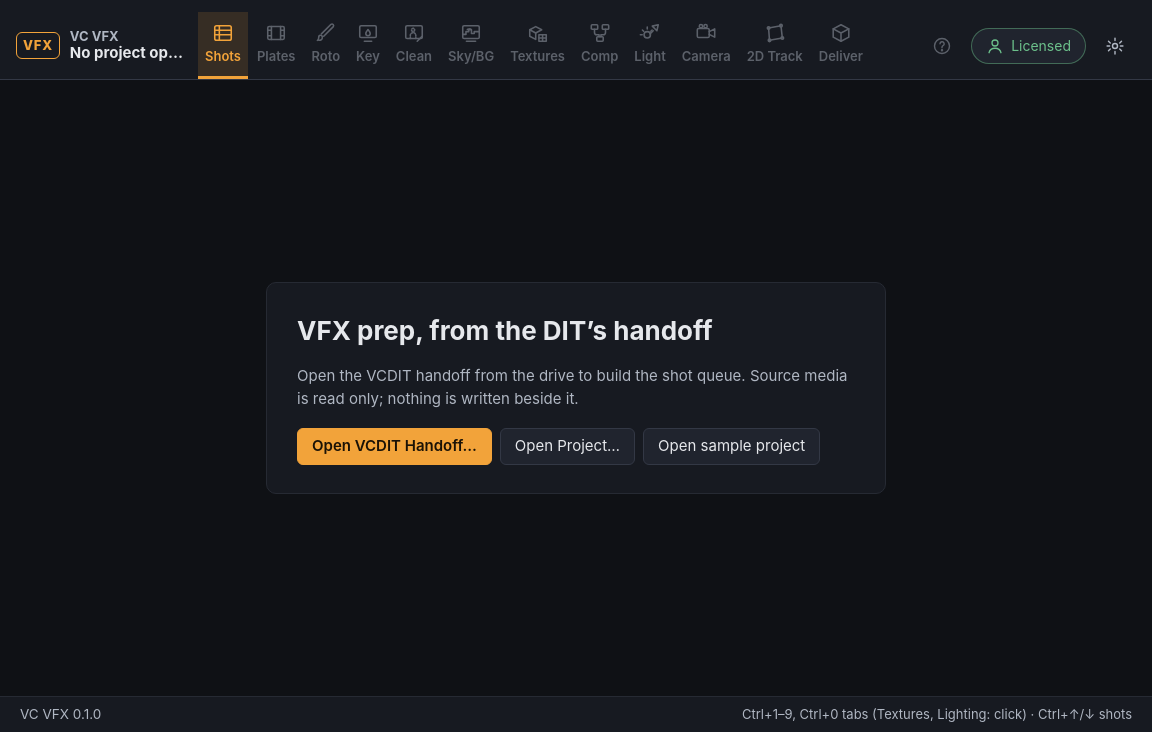
Scenario: shot queue › renders the sample’s rows with frames, prep and status
Click the button "Open sample project": [732, 447] box [643, 428, 820, 465]
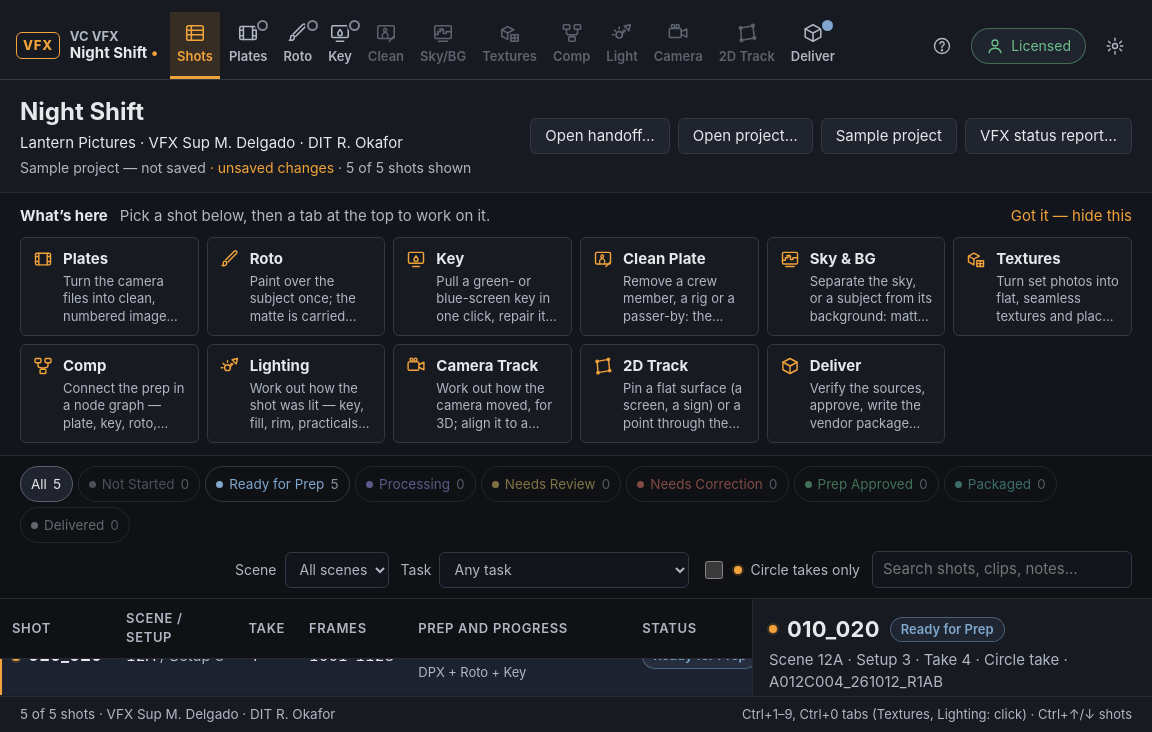
Check: the text "1001–1128" is shown, box [297, 617, 406, 696]
Check: the text "DPX + Roto + Key" is shown, box [418, 664, 526, 680]
Check: the text "Ready for Prep" in the row of "1001–1128" is shown, box [653, 647, 747, 663]
